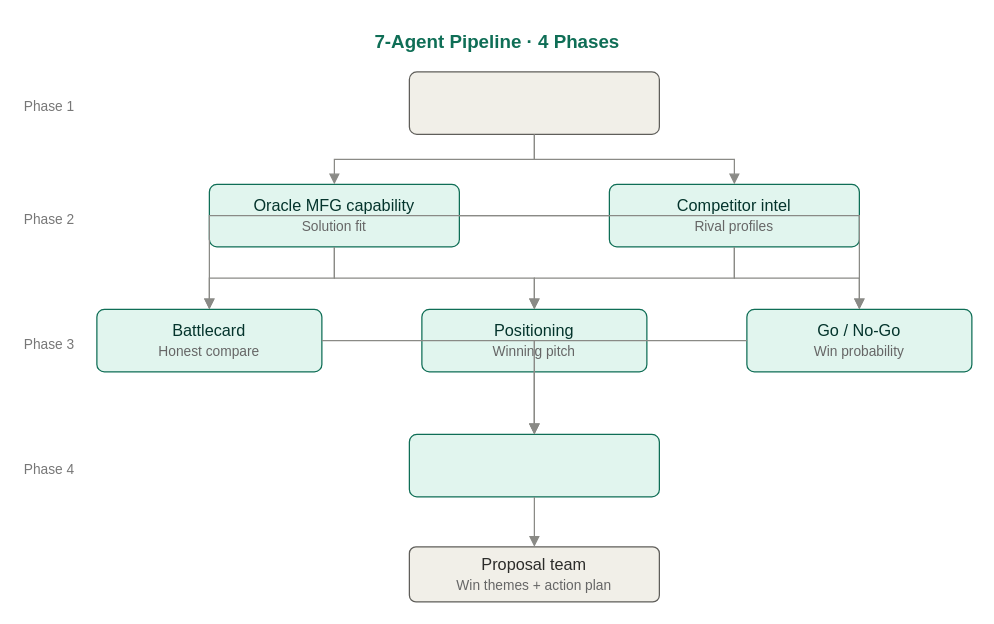
This 994x624 diagram has some shape labels left out. The shapes that lost their labels are listed below. From the top down, each one's box as (x1, y1, x2, y2) in pixels, then its label:
(408, 71, 659, 134): RFP understanding Extract + JSON manifest
(408, 433, 659, 497): Recommendation Synthesis + actions
